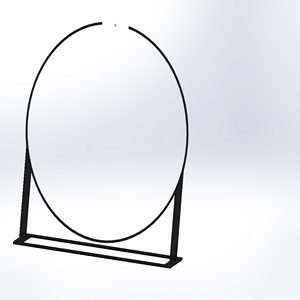circle: (10, 19, 191, 270)
